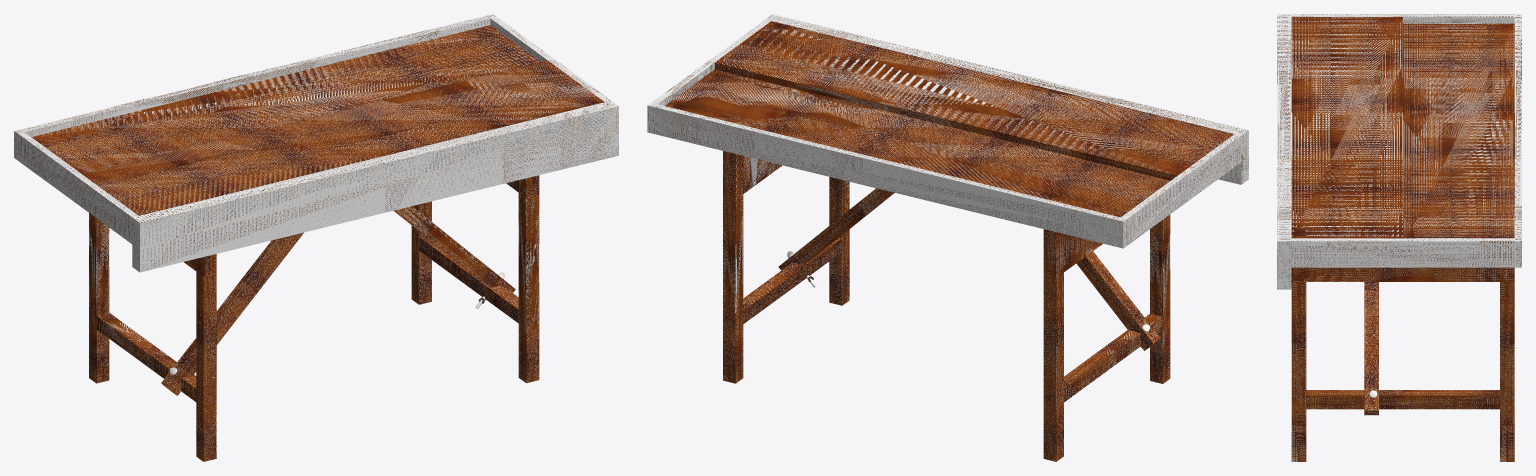
The picture shows the model from 3 angles, left to right: view 1: azimuth 30°, elevation 25°; view 2: azimuth 150°, elevation 25°; view 3: azimuth 270°, elevation 25°; orthographic projection. The views are drawn at different scales.
Parts seen in each view (by area): view 1: mesh5_mesh5-geometry, mesh1_mesh1-geometry, mesh2_mesh2-geometry, mesh13_mesh13-geometry, mesh14_mesh14-geometry, mesh6_mesh6-geometry, mesh4_mesh4-geometry, mesh49_mesh49-geometry, mesh16_mesh16-geometry, mesh94_mesh94-geometry, mesh17_mesh17-geometry, mesh3_mesh3-geometry; view 2: mesh1_mesh1-geometry, mesh2_mesh2-geometry, mesh6_mesh6-geometry, mesh14_mesh14-geometry, mesh13_mesh13-geometry, mesh5_mesh5-geometry, mesh4_mesh4-geometry, mesh16_mesh16-geometry, mesh17_mesh17-geometry, mesh49_mesh49-geometry, mesh94_mesh94-geometry, mesh9_mesh9-geometry (+2 smaller); view 3: mesh1_mesh1-geometry, mesh2_mesh2-geometry, mesh3_mesh3-geometry, mesh5_mesh5-geometry, mesh17_mesh17-geometry, mesh11_mesh11-geometry, mesh13_mesh13-geometry, mesh14_mesh14-geometry, mesh6_mesh6-geometry, mesh94_mesh94-geometry, mesh4_mesh4-geometry.
Boxes of the visible parts, box(x1,y1,x2,y2) form: mesh5_mesh5-geometry: box(132, 100, 618, 272); mesh1_mesh1-geometry: box(82, 60, 604, 215); mesh2_mesh2-geometry: box(31, 25, 540, 173); mesh13_mesh13-geometry: box(89, 177, 539, 383); mesh14_mesh14-geometry: box(196, 201, 431, 461); mesh6_mesh6-geometry: box(14, 14, 496, 160); mesh4_mesh4-geometry: box(18, 132, 138, 243); mesh49_mesh49-geometry: box(161, 232, 303, 395); mesh16_mesh16-geometry: box(96, 312, 214, 404); mesh94_mesh94-geometry: box(394, 206, 515, 292); mesh17_mesh17-geometry: box(419, 236, 536, 326); mesh3_mesh3-geometry: box(490, 16, 610, 101); mesh1_mesh1-geometry: box(714, 21, 1233, 180); mesh2_mesh2-geometry: box(665, 69, 1170, 217); mesh6_mesh6-geometry: box(647, 103, 1127, 248); mesh14_mesh14-geometry: box(723, 152, 1170, 383); mesh13_mesh13-geometry: box(829, 177, 1063, 461); mesh5_mesh5-geometry: box(765, 14, 1248, 184); mesh4_mesh4-geometry: box(1121, 134, 1240, 245); mesh16_mesh16-geometry: box(1045, 313, 1162, 405); mesh17_mesh17-geometry: box(725, 237, 842, 326); mesh49_mesh49-geometry: box(1076, 251, 1160, 350); mesh94_mesh94-geometry: box(778, 188, 894, 270); mesh9_mesh9-geometry: box(1050, 230, 1102, 277); mesh1_mesh1-geometry: box(1291, 17, 1402, 238); mesh2_mesh2-geometry: box(1403, 23, 1514, 238); mesh3_mesh3-geometry: box(1291, 238, 1514, 267); mesh5_mesh5-geometry: box(1277, 14, 1291, 289); mesh17_mesh17-geometry: box(1306, 390, 1499, 409); mesh11_mesh11-geometry: box(1291, 267, 1514, 281); mesh13_mesh13-geometry: box(1291, 282, 1306, 461); mesh14_mesh14-geometry: box(1500, 282, 1514, 461); mesh6_mesh6-geometry: box(1514, 14, 1521, 267); mesh94_mesh94-geometry: box(1364, 282, 1378, 415); mesh4_mesh4-geometry: box(1291, 14, 1514, 23).
Size of the model in its own units: 0.822 by 0.4295 by 0.374.
